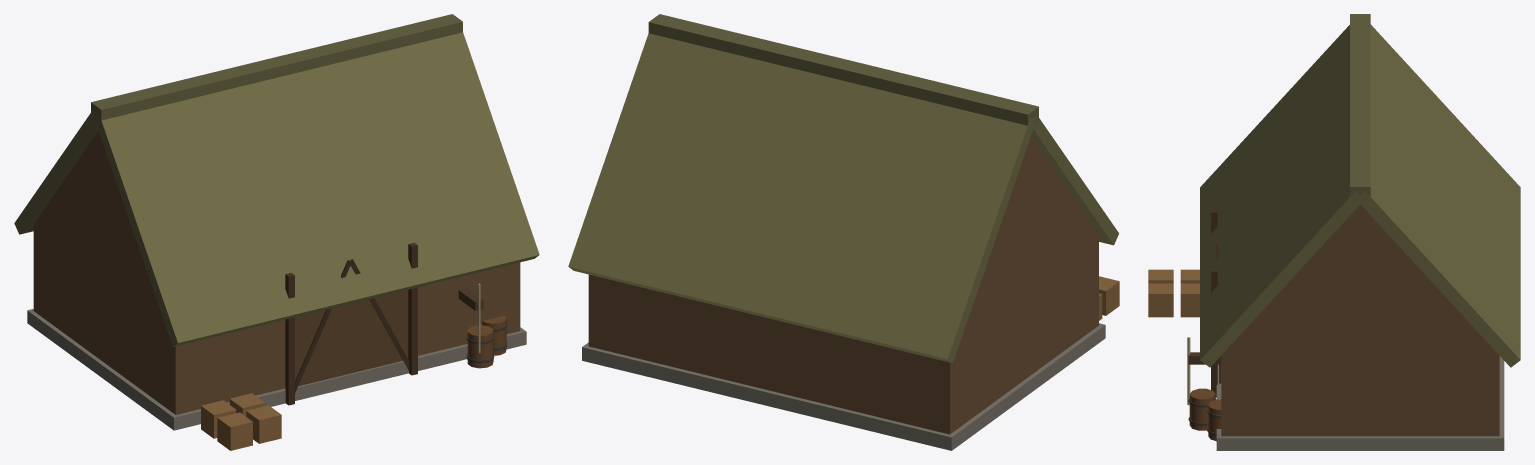
Rendered from procedural_warehouse@3.glb.
3 renders of one model, left to right at view 1: azimuth 30°, elevation 25°; view 2: azimuth 150°, elevation 25°; view 3: azimuth 270°, elevation 25°, orthographic. The views are drawn at different scales.
Parts seen in each view (by area): view 1: part_0; view 2: part_0; view 3: part_0.
Part boxes in pixels (<box>): part_0: <box>14,14,539,450</box>; part_0: <box>568,14,1119,450</box>; part_0: <box>1148,14,1520,450</box>.
Bounding box in the file's own units: 8.82 × 6.34 × 8.03.
